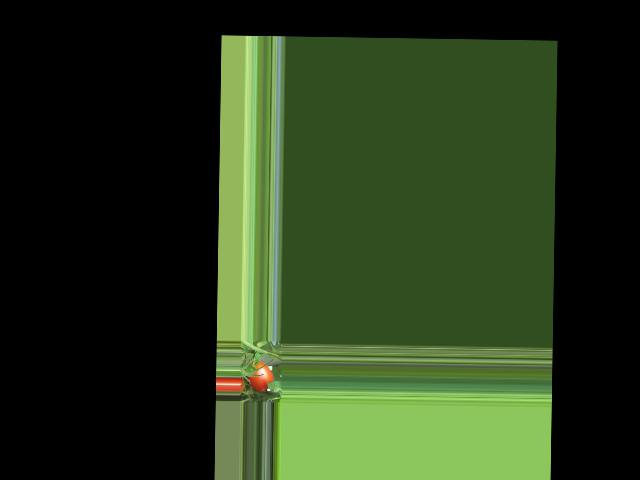tomato: (247, 361, 273, 392)
